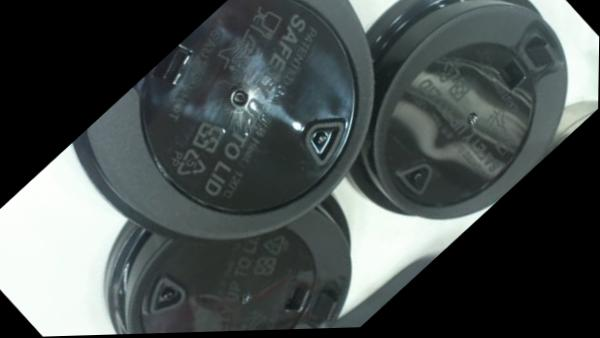plastic: (76, 0, 446, 331), (352, 0, 596, 219), (91, 169, 351, 333)
